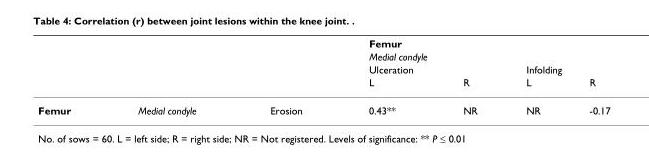table: (37, 36, 609, 115)
table column: (103, 36, 232, 115), (232, 36, 334, 115), (334, 36, 428, 115), (428, 36, 501, 115), (37, 36, 103, 115), (501, 36, 564, 115), (564, 36, 609, 115)
table column header: (37, 36, 609, 95)
table row: (37, 75, 609, 95), (37, 95, 609, 115), (37, 36, 609, 49), (37, 49, 609, 62), (37, 62, 609, 75)
table spanning cell: (334, 36, 609, 62), (334, 62, 501, 75), (501, 62, 609, 75)
